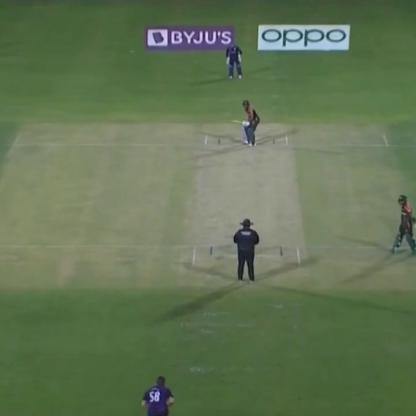bat: (226, 119, 248, 127)
pitch: (199, 132, 300, 272)
